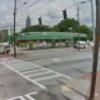crosswalks: (22, 70, 57, 79), (6, 92, 40, 100), (15, 65, 44, 74), (8, 62, 32, 70), (30, 78, 47, 89), (0, 58, 23, 64), (56, 72, 70, 79)
